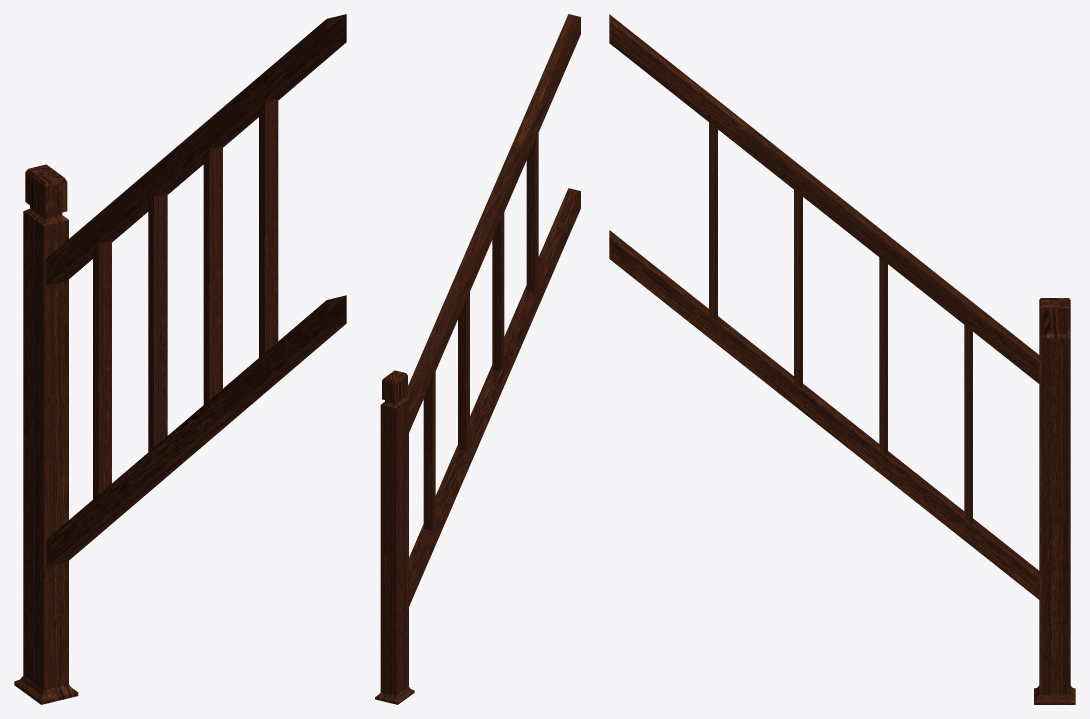
Rendered from fence_stair_short.fbx.
The picture shows the model from 3 angles, left to right: view 1: azimuth 30°, elevation 25°; view 2: azimuth 150°, elevation 25°; view 3: azimuth 270°, elevation 25°; orthographic projection. The views are drawn at different scales.
Visible parts, largest first — view 1: fence_stair_short; view 2: fence_stair_short; view 3: fence_stair_short.
Part boxes in pixels (x1,y1,x2,y2): fence_stair_short: (14,14,346,704); fence_stair_short: (375,14,580,704); fence_stair_short: (609,14,1075,704).
Size of the model in its own units: 11 by 252 by 157.
